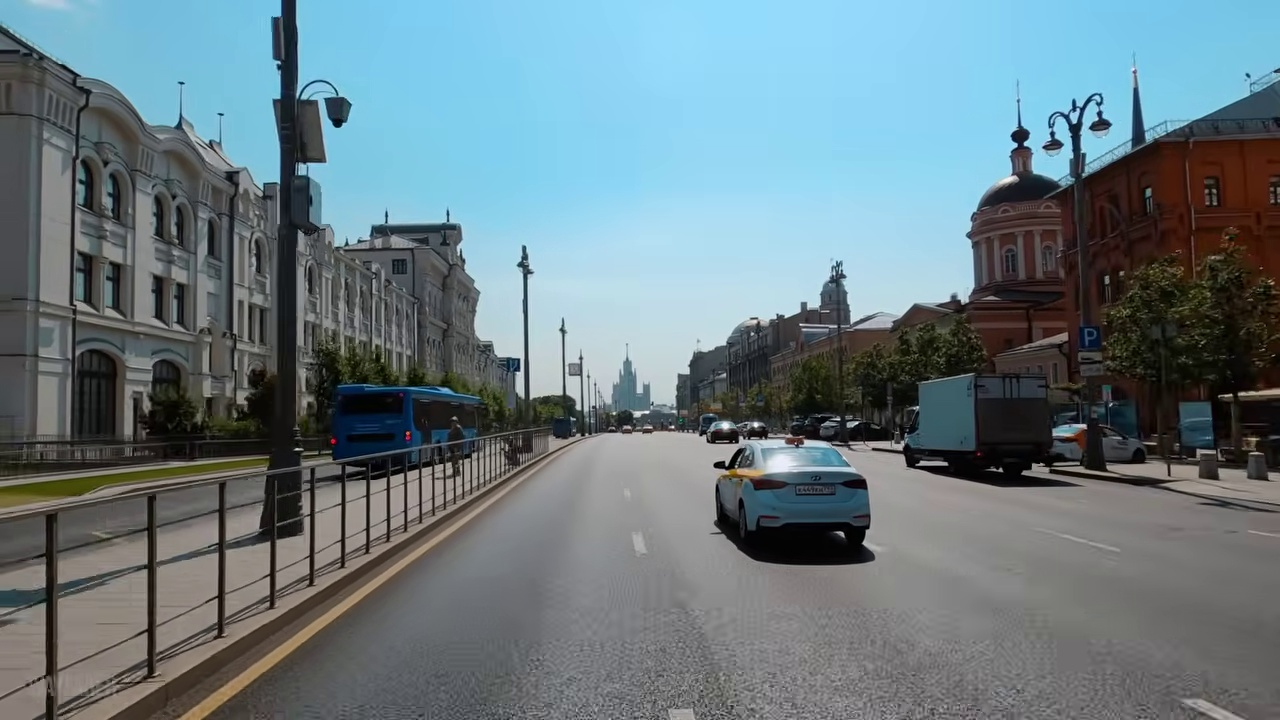apagada: (1041, 99, 1112, 160), (823, 261, 849, 290), (510, 252, 534, 282)
